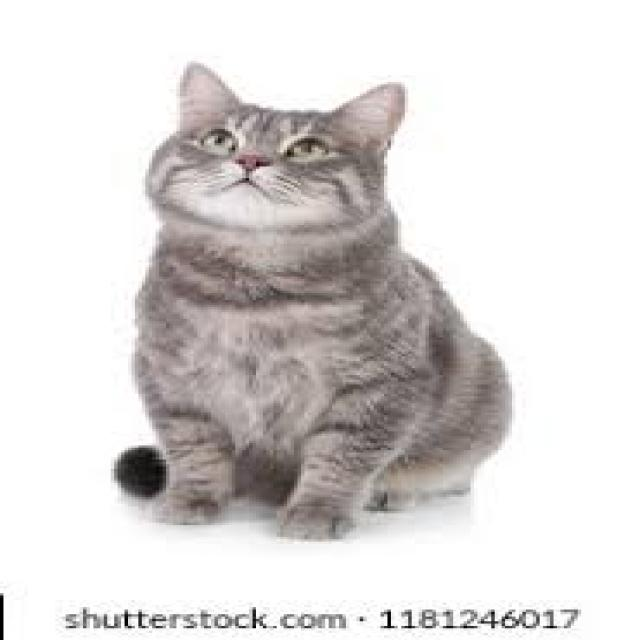Cat: (82, 58, 524, 548)
